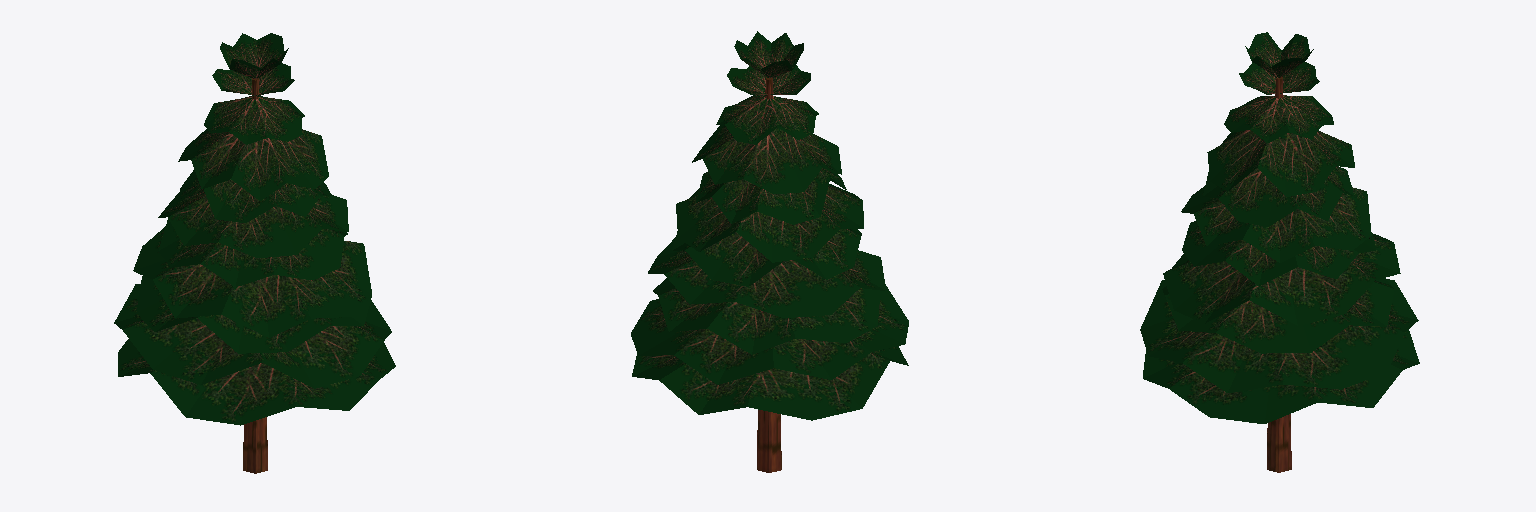
3 renders of one model, left to right at view 1: azimuth 30°, elevation 25°; view 2: azimuth 150°, elevation 25°; view 3: azimuth 270°, elevation 25°, orthographic.
Parts seen in each view (by area): view 1: NoName,1 Solid,9, NoName,1 Solid,8, NoName,1 Solid,2, NoName,1 Solid,10, NoName,1 Solid,7, NoName,1 Solid,3, NoName,1 Solid,1, NoName,1 Solid,5, NoName,1 Solid,6, NoName,1 Solid,11, NoName,1 Solid,12, NoName,2 Cylinder; view 2: NoName,1 Solid,8, NoName,1 Solid,2, NoName,1 Solid,9, NoName,1 Solid,1, NoName,1 Solid,10, NoName,1 Solid,7, NoName,1 Solid,3, NoName,1 Solid,6, NoName,1 Solid,5, NoName,1 Solid,11, NoName,1 Solid,12, NoName,2 Cylinder; view 3: NoName,1 Solid,8, NoName,1 Solid,9, NoName,1 Solid,2, NoName,1 Solid,10, NoName,1 Solid,7, NoName,1 Solid,1, NoName,1 Solid,6, NoName,1 Solid,3, NoName,1 Solid,5, NoName,1 Solid,11, NoName,1 Solid,12, NoName,2 Cylinder.
Boxes of the visible parts, <box> form: NoName,1 Solid,9: <box>133,226,371,337</box>; NoName,1 Solid,8: <box>114,284,391,388</box>; NoName,1 Solid,2: <box>118,339,395,425</box>; NoName,1 Solid,10: <box>158,185,348,257</box>; NoName,1 Solid,7: <box>178,129,328,200</box>; NoName,1 Solid,3: <box>158,219,347,286</box>; NoName,1 Solid,1: <box>136,276,371,353</box>; NoName,1 Solid,5: <box>204,96,304,144</box>; NoName,1 Solid,6: <box>180,170,331,222</box>; NoName,1 Solid,11: <box>220,33,288,78</box>; NoName,1 Solid,12: <box>212,63,294,96</box>; NoName,2 Cylinder: <box>243,78,267,473</box>; NoName,1 Solid,8: <box>631,284,908,384</box>; NoName,1 Solid,2: <box>632,346,908,420</box>; NoName,1 Solid,9: <box>648,237,885,317</box>; NoName,1 Solid,1: <box>653,278,879,354</box>; NoName,1 Solid,10: <box>676,184,863,262</box>; NoName,1 Solid,7: <box>692,125,841,193</box>; NoName,1 Solid,3: <box>672,229,861,286</box>; NoName,1 Solid,6: <box>696,168,846,224</box>; NoName,1 Solid,5: <box>716,96,818,144</box>; NoName,1 Solid,11: <box>734,31,803,77</box>; NoName,1 Solid,12: <box>727,65,810,96</box>; NoName,2 Cylinder: <box>757,77,781,472</box>; NoName,1 Solid,8: <box>1140,279,1418,392</box>; NoName,1 Solid,9: <box>1163,234,1400,325</box>; NoName,1 Solid,2: <box>1143,330,1419,423</box>; NoName,1 Solid,10: <box>1181,186,1371,262</box>; NoName,1 Solid,7: <box>1207,130,1354,196</box>; NoName,1 Solid,1: <box>1162,278,1394,353</box>; NoName,1 Solid,6: <box>1203,166,1354,226</box>; NoName,1 Solid,3: <box>1182,221,1375,285</box>; NoName,1 Solid,5: <box>1224,95,1333,142</box>; NoName,1 Solid,11: <box>1245,32,1313,78</box>; NoName,1 Solid,12: <box>1239,62,1319,94</box>; NoName,2 Cylinder: <box>1267,77,1291,472</box>.
Bounding box in the file's own units: 4.79 × 8.04 × 4.83.
Materials: 12 (2 with a texture image).